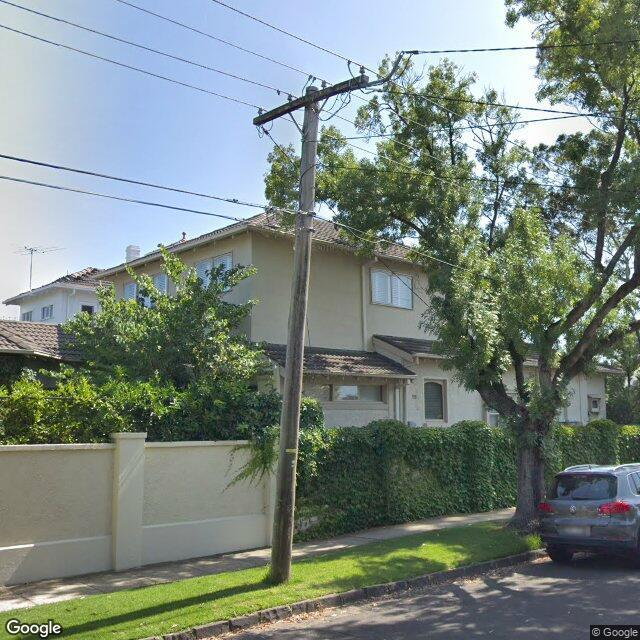crossarm: (252, 75, 369, 125)
timber-pole: (270, 86, 320, 584)
